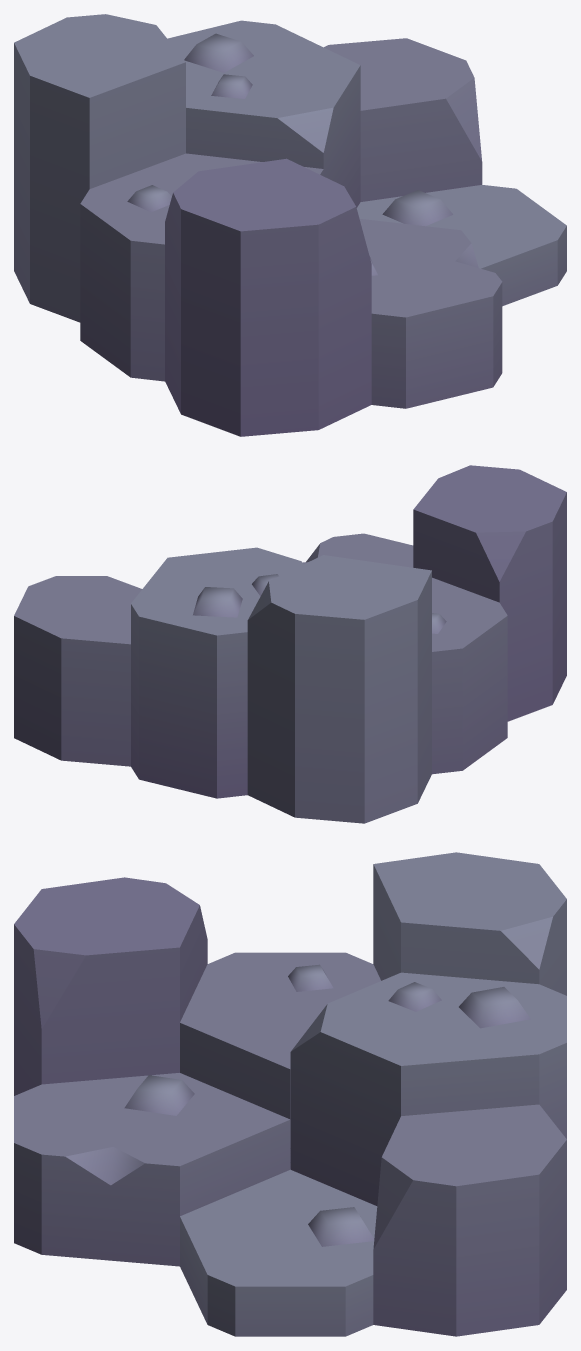
Rendered from quarry.glb.
The picture shows the model from 3 angles, top to bottom: view 1: azimuth 30°, elevation 25°; view 2: azimuth 150°, elevation 25°; view 3: azimuth 270°, elevation 25°; orthographic projection. The views are drawn at different scales.
Visible parts, largest first — view 1: rocks-ramp; view 2: rocks-ramp; view 3: rocks-ramp.
Part boxes in pixels (x1,y1,x2,y2): rocks-ramp: [14, 14, 566, 436]; rocks-ramp: [14, 465, 566, 823]; rocks-ramp: [14, 852, 566, 1336].
Bounding box in the file's own units: 1.38 × 0.692 × 1.38.
Materials: 1 (1 with a texture image).
